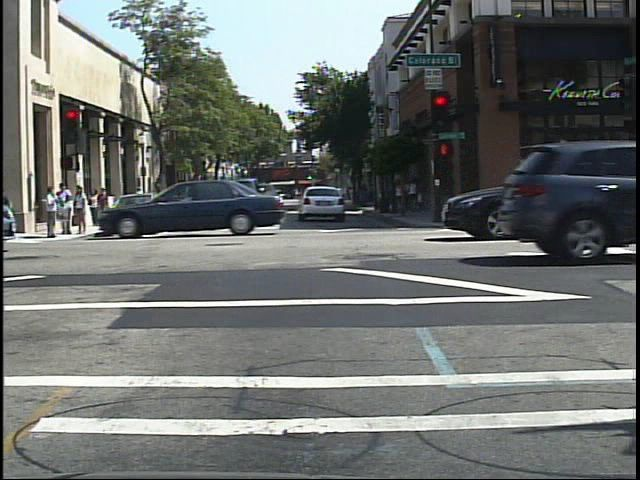person: (87, 188, 102, 229), (169, 183, 185, 216), (131, 183, 147, 215)
